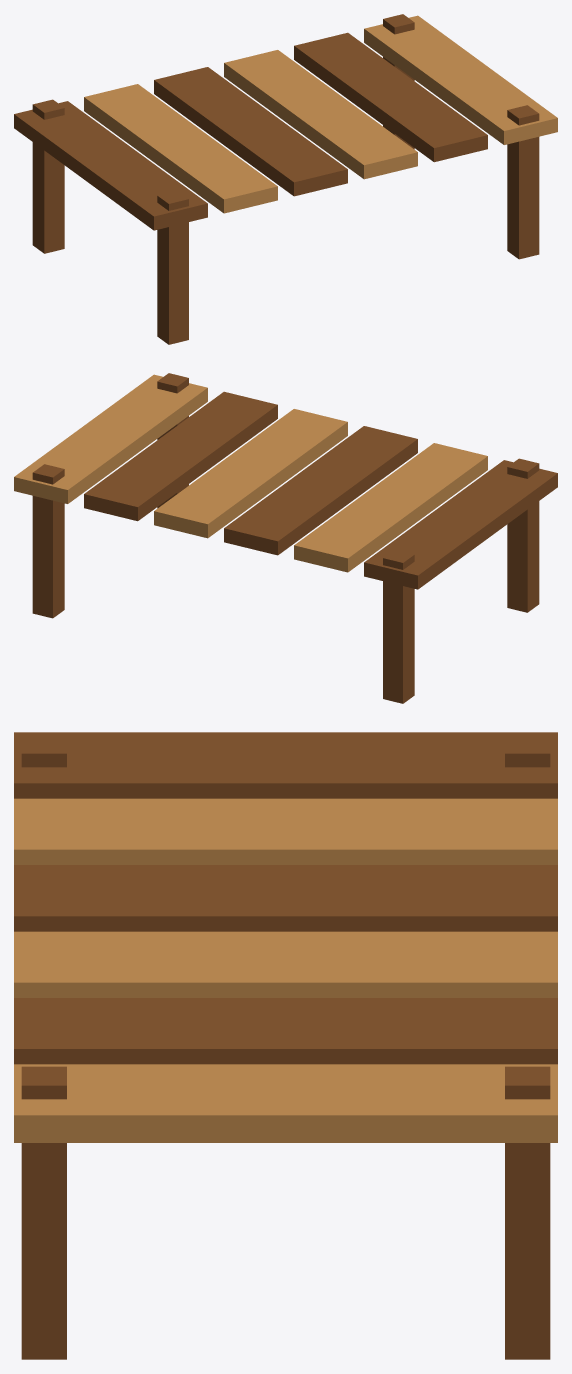
The model's file is h_dock_plank_section.glb.
3 renders of one model, top to bottom at view 1: azimuth 30°, elevation 25°; view 2: azimuth 150°, elevation 25°; view 3: azimuth 270°, elevation 25°, orthographic. The views are drawn at different scales.
Visible parts, largest first — view 1: dock_plank_section; view 2: dock_plank_section; view 3: dock_plank_section.
Part boxes in pixels (x1,y1,x2,y2): dock_plank_section: (14,14,557,344); dock_plank_section: (14,373,557,703); dock_plank_section: (14,732,557,1359).
Bounding box in the file's own units: 3 × 1 × 1.8.
